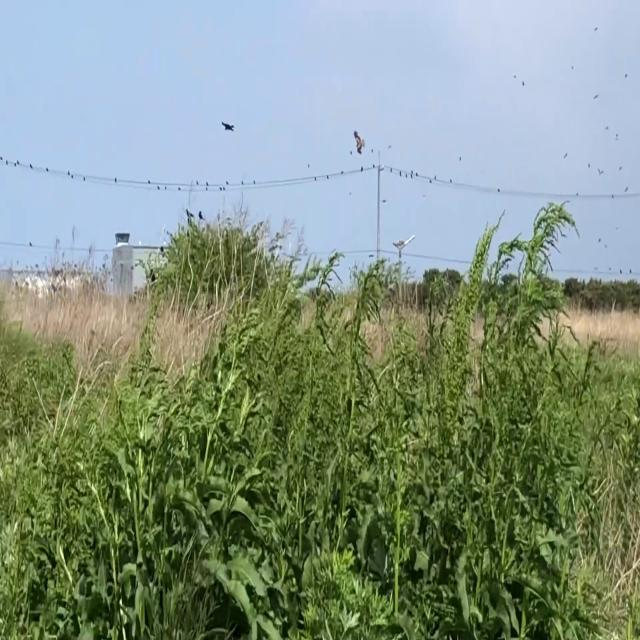bird: (353, 127, 363, 155), (222, 114, 234, 137)
